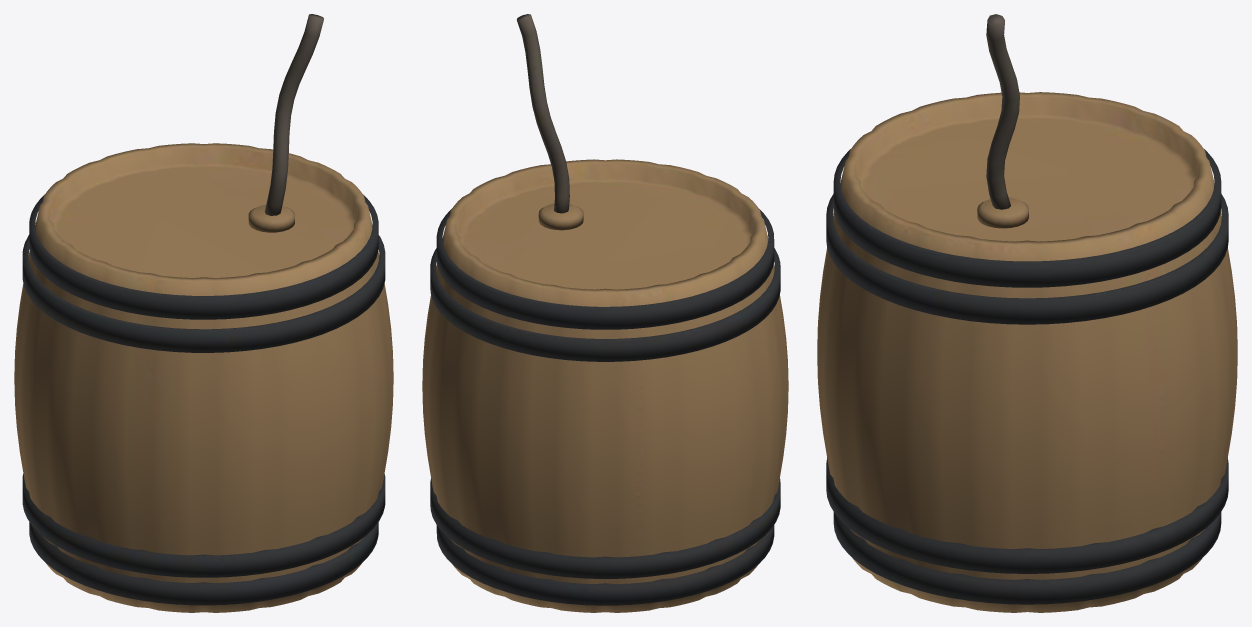
Rendered from tool_keg.glb.
3 renders of one model, left to right at view 1: azimuth 30°, elevation 25°; view 2: azimuth 150°, elevation 25°; view 3: azimuth 270°, elevation 25°, orthographic. The views are drawn at different scales.
Parts seen in each view (by area): view 1: keg-body, keg-fuse; view 2: keg-body, keg-fuse; view 3: keg-body, keg-fuse.
Part boxes in pixels (x1=…): keg-body: x1=14, y1=143, x2=393, y2=612; keg-fuse: x1=264, y1=14, x2=323, y2=215; keg-body: x1=422, y1=159, x2=788, y2=612; keg-fuse: x1=517, y1=14, x2=569, y2=213; keg-body: x1=817, y1=92, x2=1237, y2=612; keg-fuse: x1=986, y1=14, x2=1019, y2=209.
Size of what is drawn, in the model's own units: 0.2594 by 0.3897 by 0.2598.
Materials: 1 (1 with a texture image).
